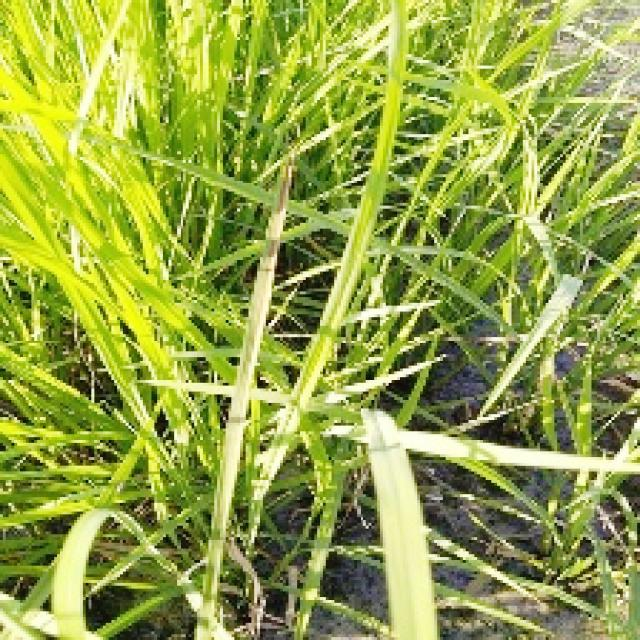health: (0, 0, 321, 446)
